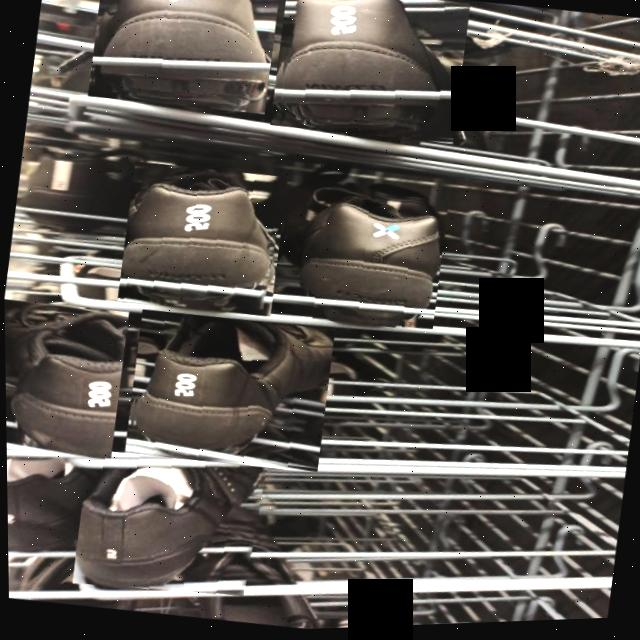shoe: (122, 305, 336, 481), (69, 444, 268, 609), (268, 0, 472, 152), (115, 158, 289, 323), (285, 183, 450, 339), (86, 0, 282, 121), (3, 295, 129, 463)
